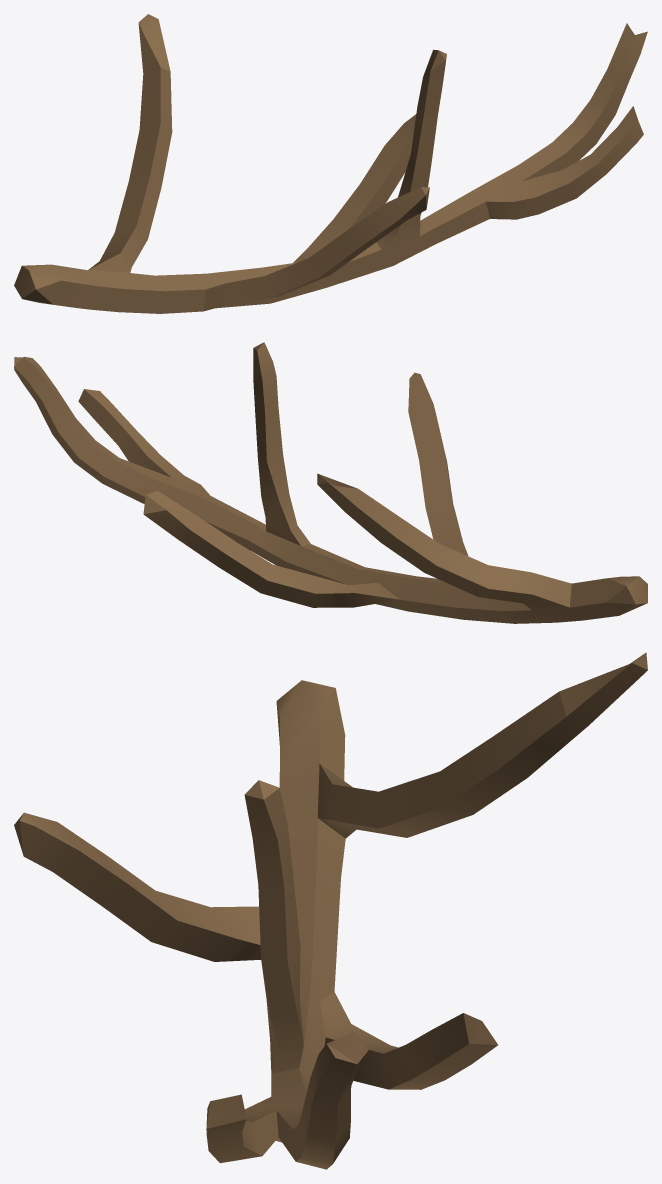
Rendered from swamp_deadbranch_03.fbx.
3 renders of one model, top to bottom at view 1: azimuth 30°, elevation 25°; view 2: azimuth 150°, elevation 25°; view 3: azimuth 270°, elevation 25°, orthographic. The views are drawn at different scales.
Visible parts, largest first — view 1: DeadBranck_03; view 2: DeadBranck_03; view 3: DeadBranck_03.
Part boxes in pixels (<box>): DeadBranck_03: <box>14,14,647,313</box>; DeadBranck_03: <box>14,342,647,623</box>; DeadBranck_03: <box>14,652,647,1169</box>.
Bounding box in the file's own units: 1.14 × 0.3846 × 0.5933.
